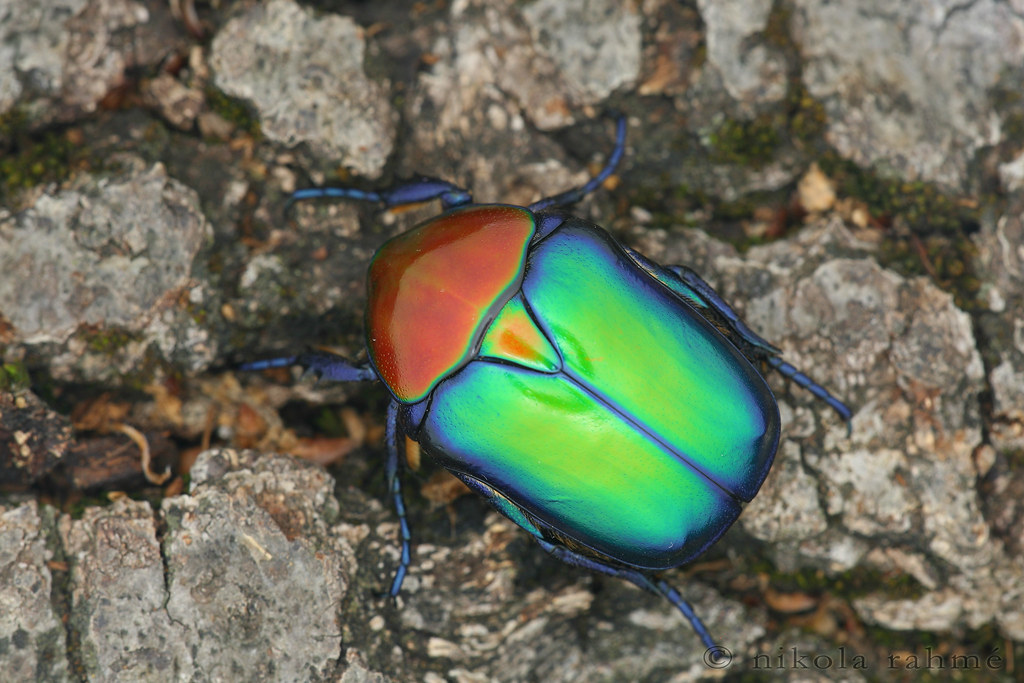Protaetia_speciosa_jousseliniw: (233, 110, 862, 672)
